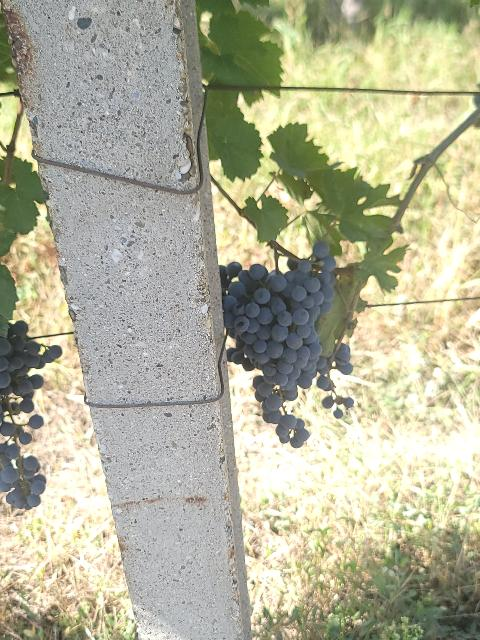grapes: (220, 242, 335, 448), (0, 320, 63, 510)
